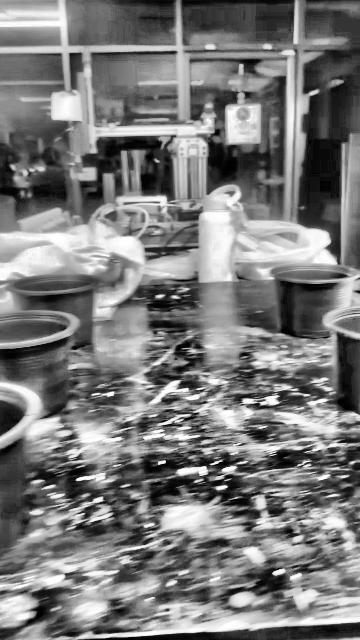pot: (0, 310, 79, 417), (0, 383, 40, 554), (271, 263, 358, 337), (11, 274, 96, 347), (325, 308, 360, 412)
